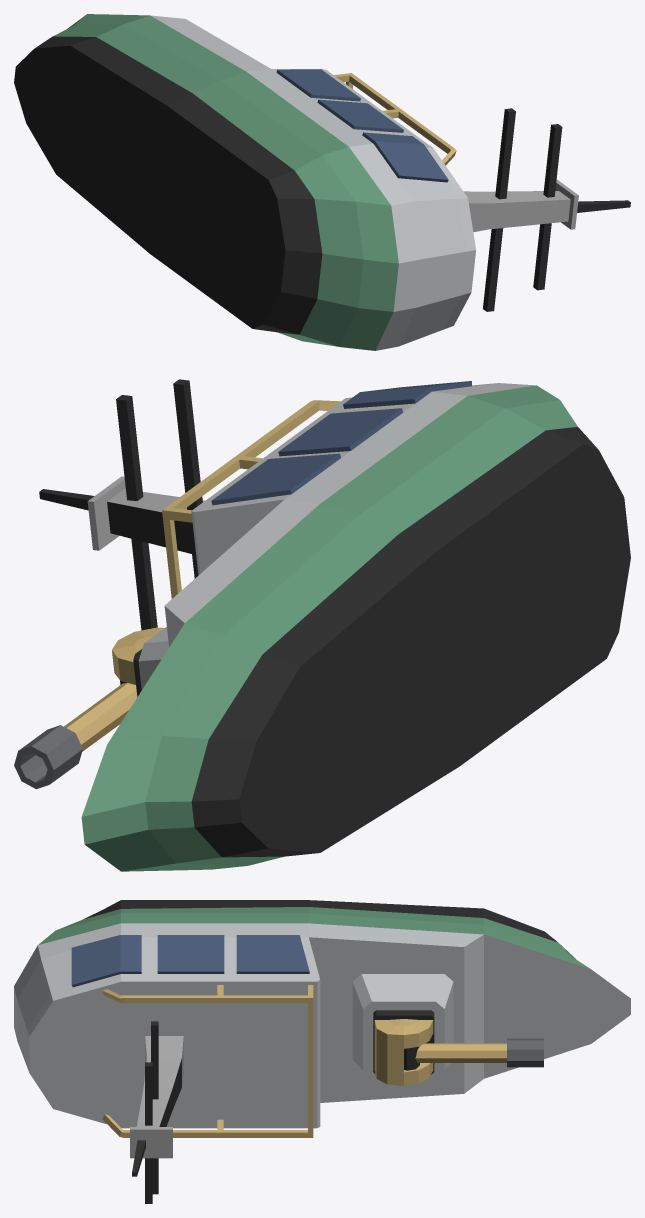
Rendered from Naval_ani.fbx.
The picture shows the model from 3 angles, top to bottom: view 1: azimuth 30°, elevation 25°; view 2: azimuth 150°, elevation 25°; view 3: azimuth 270°, elevation 25°; orthographic projection. The views are drawn at different scales.
Parts seen in each view (by area): view 1: Naval; view 2: Naval; view 3: Naval.
Boxes of the visible parts, left/top/right/bottom form: Naval: left=14, top=14, right=630, bottom=350; Naval: left=14, top=379, right=630, bottom=871; Naval: left=14, top=900, right=630, bottom=1203.
Bounding box in the file's own units: 399 × 214 × 603.
